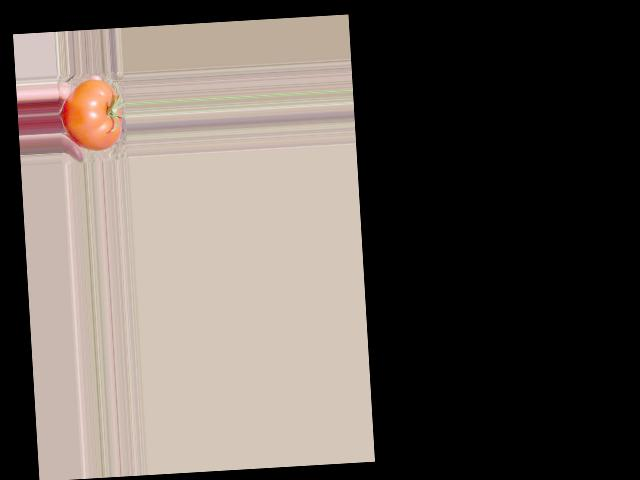tomato: (59, 77, 123, 151)
